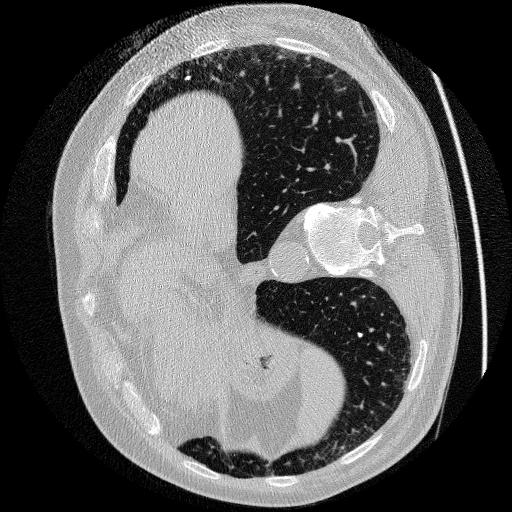nodule: (181, 71, 193, 83)
